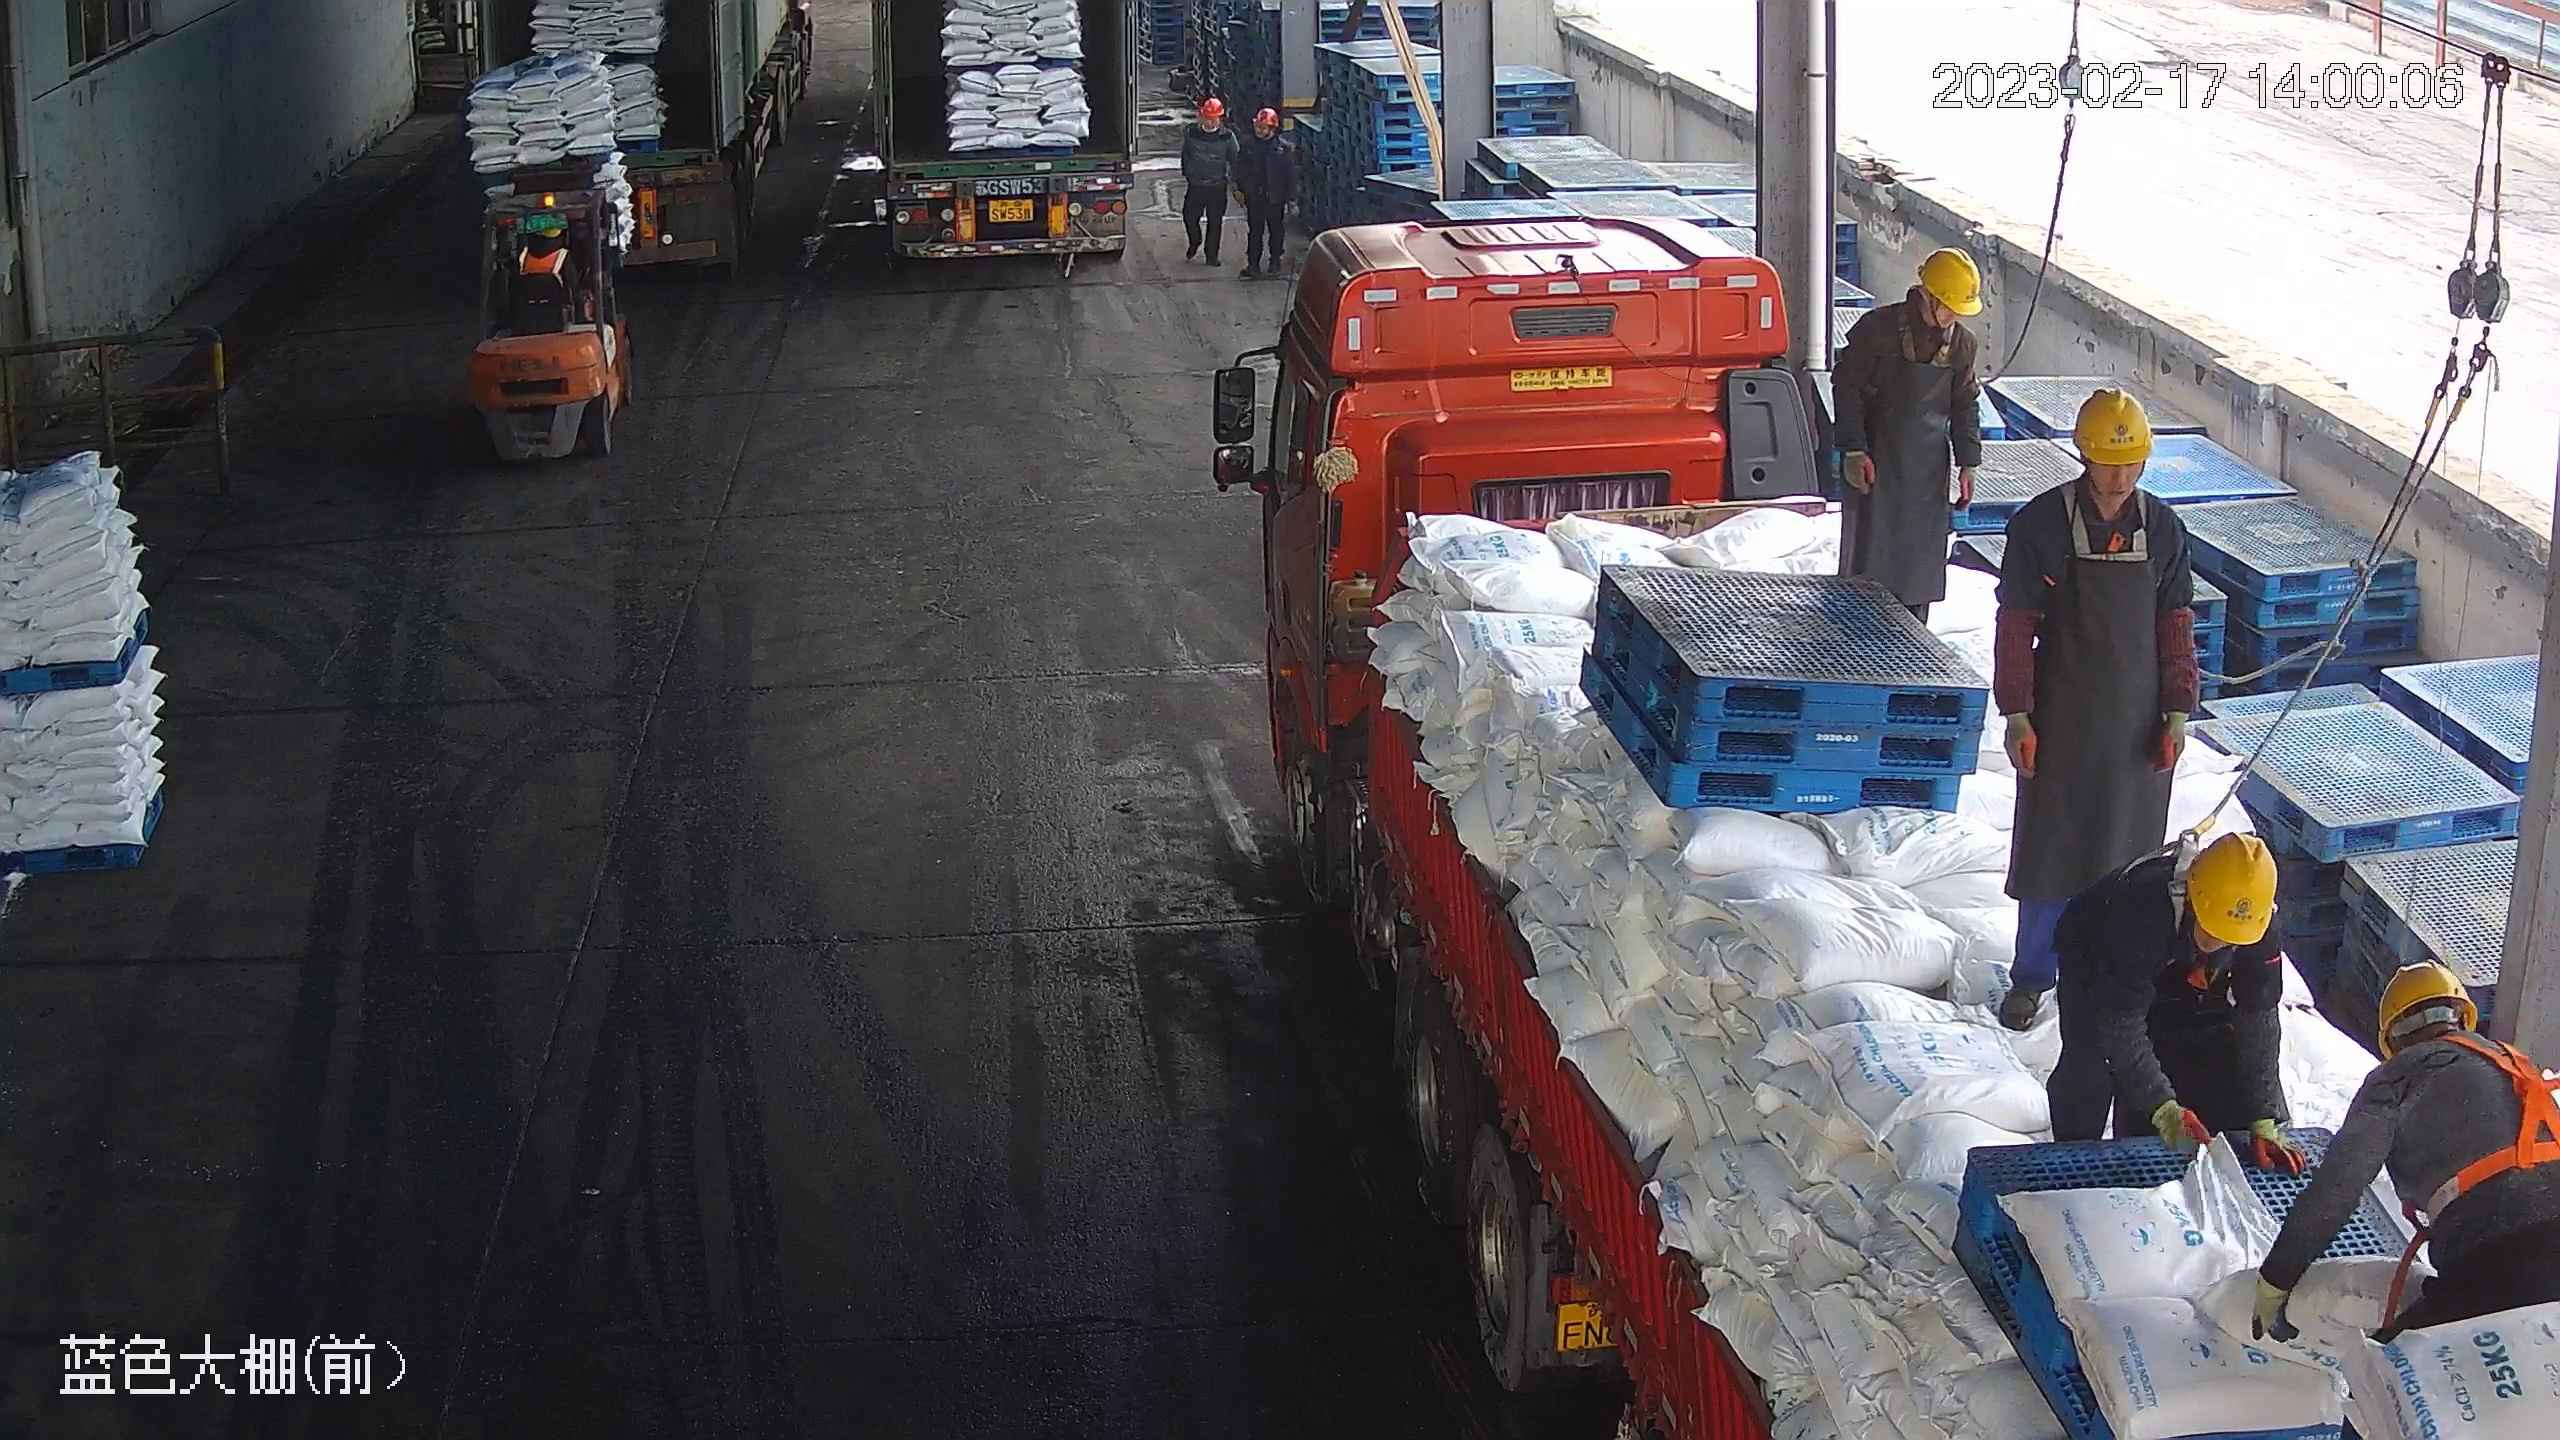belt: (2113, 801, 2277, 960), (2044, 474, 2154, 569), (1886, 303, 1987, 396)
head: (2346, 957, 2548, 1124), (2000, 387, 2193, 547), (2106, 834, 2288, 948), (1841, 245, 1983, 362), (1243, 107, 1295, 158), (1183, 98, 1237, 145)
helmet: (2388, 1029, 2560, 1227), (2378, 960, 2482, 1063), (2184, 832, 2280, 945), (2073, 387, 2152, 466), (1918, 245, 1984, 317), (1252, 107, 1278, 128), (1195, 97, 1226, 115)
people: (2248, 959, 2560, 1440), (1992, 387, 2205, 1028), (2045, 834, 2309, 1181), (1829, 246, 1986, 632), (1177, 98, 1241, 268), (1235, 104, 1294, 277)
truck: (1255, 215, 2560, 1440)
